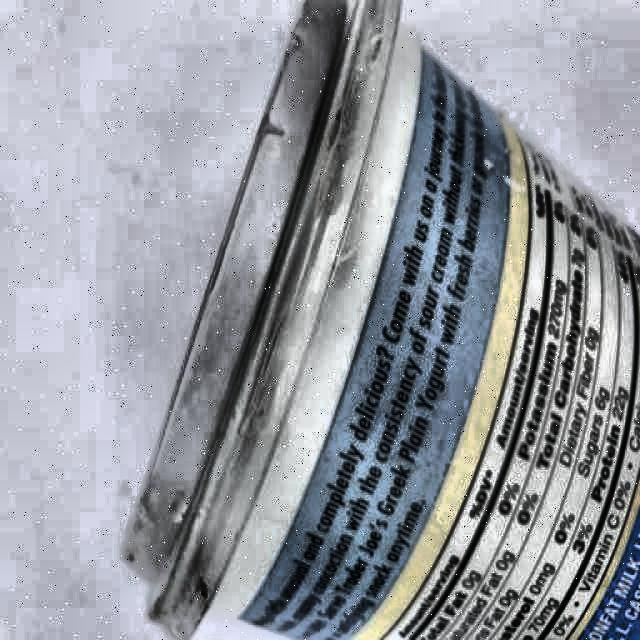plastic: (122, 0, 640, 640)
